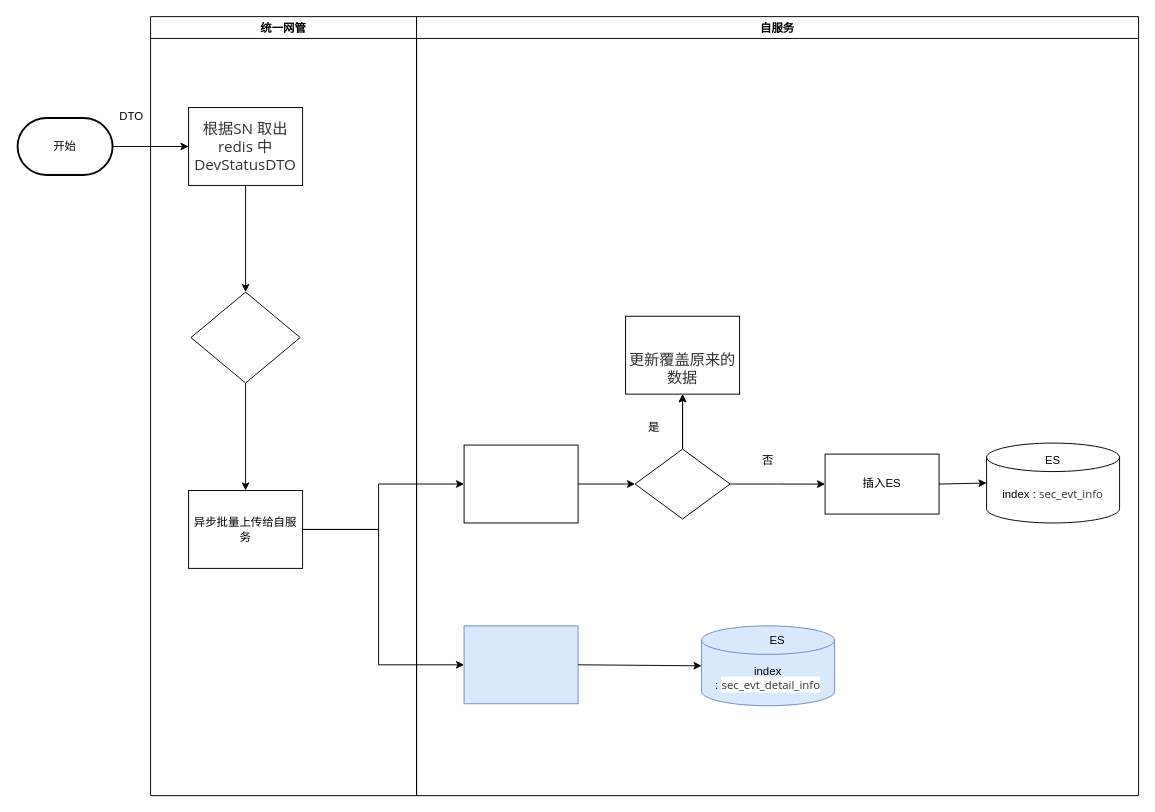
Image size: 1155x812. Some labels were removed from this diagram. Here are the shapes that lost their labels. From the top down, the centre of each, then its label:
At point 245,337: "参数校验".
At point 520,483: "按evtId 从ES中查找已经存在的安全事件".
At point 682,483: "ES中存在相同evtId的事件".
At point 520,664: "直接插入ES".
